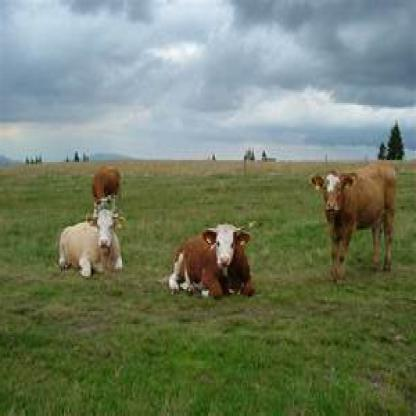cow: (312, 166, 397, 280), (166, 230, 247, 298), (58, 217, 125, 274)
